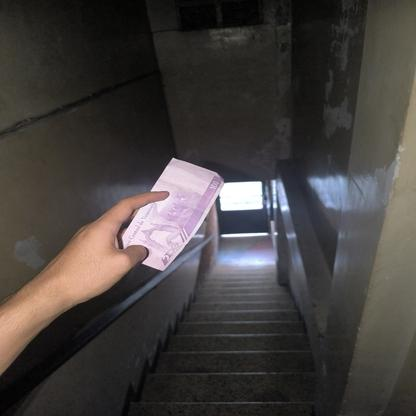one_hundred-back-vef: (115, 156, 226, 272)
